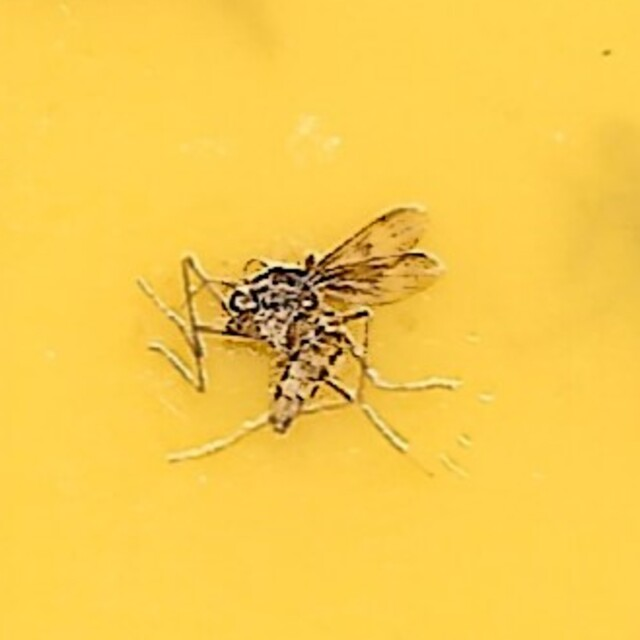Nematocera: (195, 196, 445, 444)
